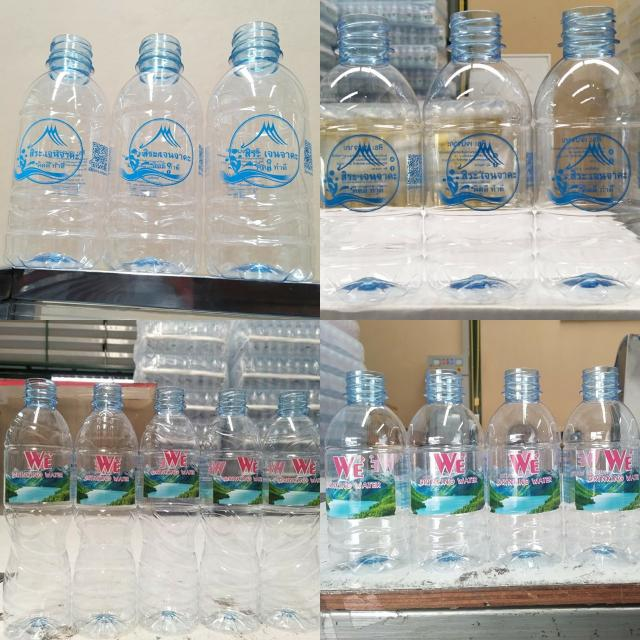plastik: (424, 10, 532, 301), (534, 6, 640, 301), (320, 14, 422, 301), (205, 22, 314, 281), (5, 35, 110, 268), (104, 34, 202, 274), (4, 379, 72, 640), (325, 370, 410, 574), (72, 382, 138, 638), (408, 369, 489, 571), (562, 366, 640, 568), (486, 368, 564, 569), (138, 386, 200, 634), (199, 389, 262, 632), (260, 390, 320, 630)
